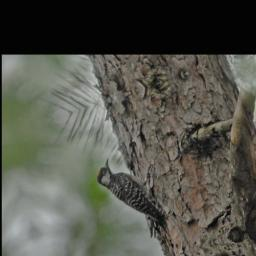Woodpecker: (90, 142, 172, 245)
